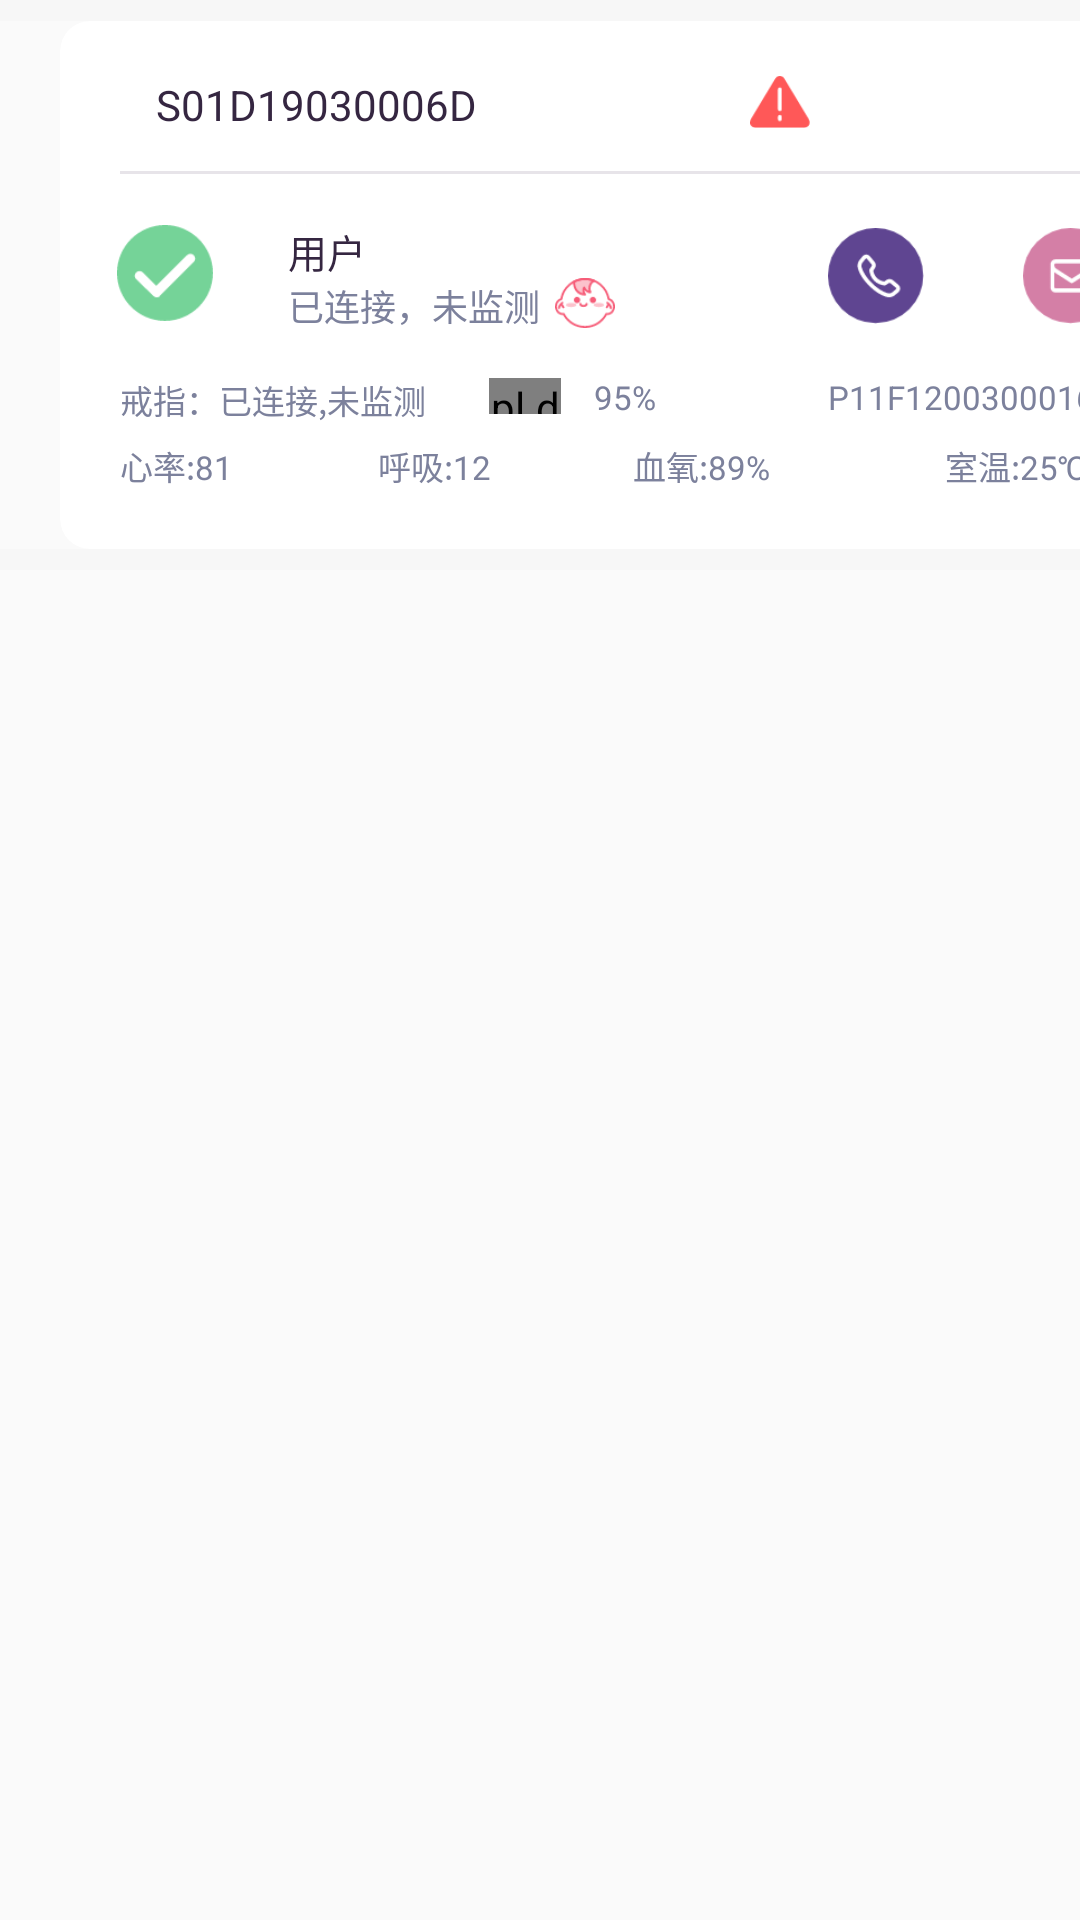

Screen size 1080px×1920px. Icon name, then its box in pixels as bbox=(x1, y1, x2, y2):
children: bbox=(555, 278, 615, 328)
phone: bbox=(828, 228, 924, 324)
